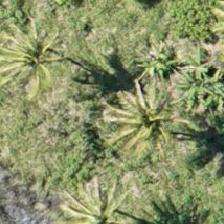coconut_tree: (88, 72, 178, 162), (0, 8, 88, 98), (0, 23, 61, 113), (58, 167, 148, 223)
